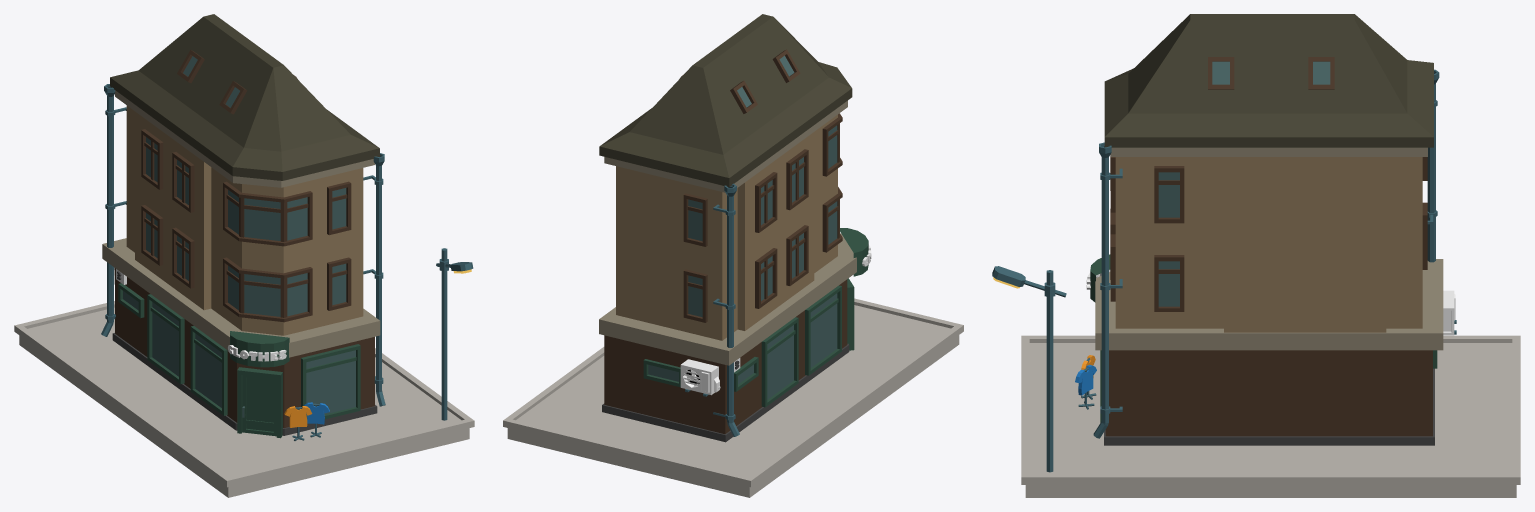
The model's file is 3House2.glb.
The picture shows the model from 3 angles, left to right: view 1: azimuth 30°, elevation 25°; view 2: azimuth 150°, elevation 25°; view 3: azimuth 270°, elevation 25°; orthographic projection. The views are drawn at different scales.
Parts seen in each view (by area): view 1: Plane094, level_010, level_014, level_008, Rectangle023, level_013, level_012, window_115, window_116, window_126, window_128, window_127 (+18 smaller); view 2: Plane094, level_010, level_014, level_008, level_012, Rectangle023, level_013, window_128, window_127, level_011, level_009, Cylinder1713 (+15 smaller); view 3: level_010, Plane094, level_012, level_014, level_008, level_013, Rectangle023, level_011, level_009, street_light_005, Cylinder1714, window_120 (+5 smaller).
Boxes of the visible parts, box(x1,y1,x2,y2) form: Plane094: box(19, 307, 469, 497); level_010: box(110, 14, 379, 180); level_014: box(126, 172, 363, 335); level_008: box(126, 105, 363, 260); Rectangle023: box(14, 301, 474, 487); level_013: box(102, 238, 380, 357); level_012: box(115, 268, 374, 428); window_115: box(223, 257, 312, 322); window_116: box(223, 181, 312, 246); window_126: box(301, 344, 360, 419); window_128: box(147, 294, 184, 384); window_127: box(190, 326, 227, 415); Plane094: box(507, 305, 959, 497); level_010: box(599, 14, 852, 186); level_014: box(616, 181, 837, 340); level_008: box(616, 114, 837, 265); level_012: box(604, 279, 847, 434); Rectangle023: box(503, 298, 963, 487); level_013: box(599, 233, 856, 365); window_128: box(761, 317, 798, 407); window_127: box(805, 285, 841, 375); level_011: box(602, 343, 849, 442); level_009: box(604, 100, 847, 192); Cylinder1713: box(724, 183, 739, 436); level_010: box(1104, 14, 1433, 147); Plane094: box(1025, 343, 1516, 497); level_012: box(1105, 350, 1432, 436); level_014: box(1115, 240, 1422, 332); level_008: box(1115, 157, 1422, 244); level_013: box(1095, 259, 1443, 350); Rectangle023: box(1021, 335, 1520, 484); level_011: box(1104, 368, 1434, 445); level_009: box(1110, 147, 1427, 156); street_light_005: box(992, 266, 1066, 472); Cylinder1714: box(1093, 142, 1111, 438); window_120: box(1154, 166, 1184, 223).
Size of the model in its own units: 8.2 by 11.1 by 12.91.
